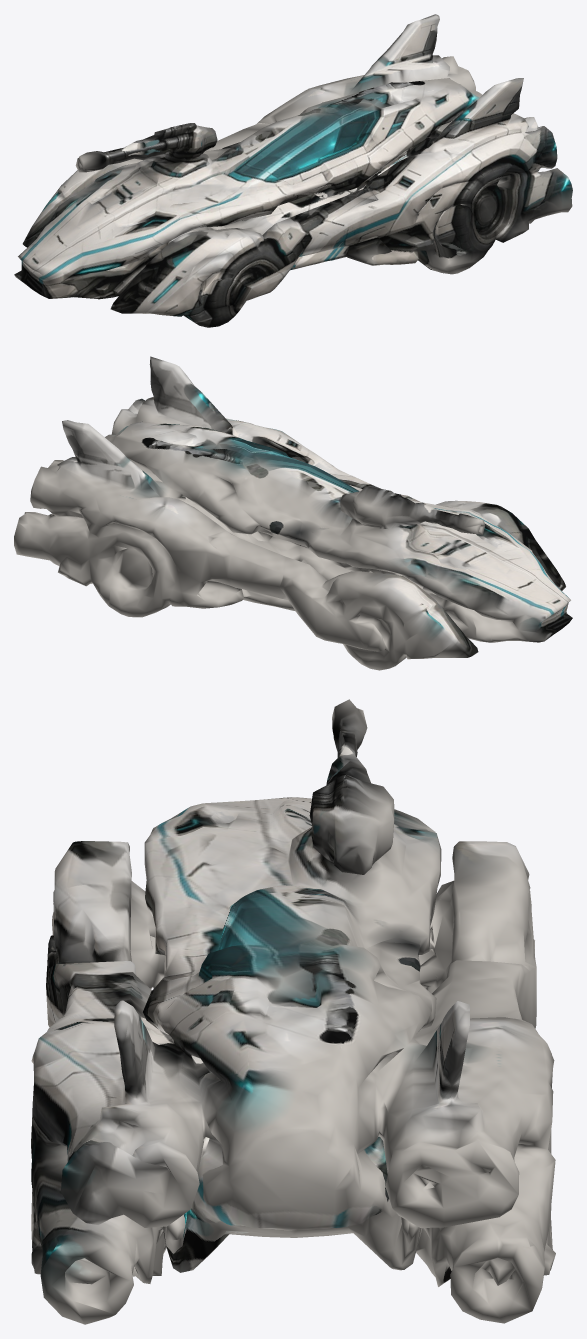
File: gibli_lod1.glb
The picture shows the model from 3 angles, top to bottom: view 1: azimuth 30°, elevation 25°; view 2: azimuth 150°, elevation 25°; view 3: azimuth 270°, elevation 25°; orthographic projection. The views are drawn at different scales.
Parts seen in each view (by area): view 1: geometry_0; view 2: geometry_0; view 3: geometry_0.
Boxes of the visible parts, x1,y1,x2,y2 form: geometry_0: (14,14,572,327); geometry_0: (14,356,572,670); geometry_0: (31,699,555,1324).
Size of the model in its own units: 2 by 0.6511 by 0.9391.
1 material, 1 textured.
